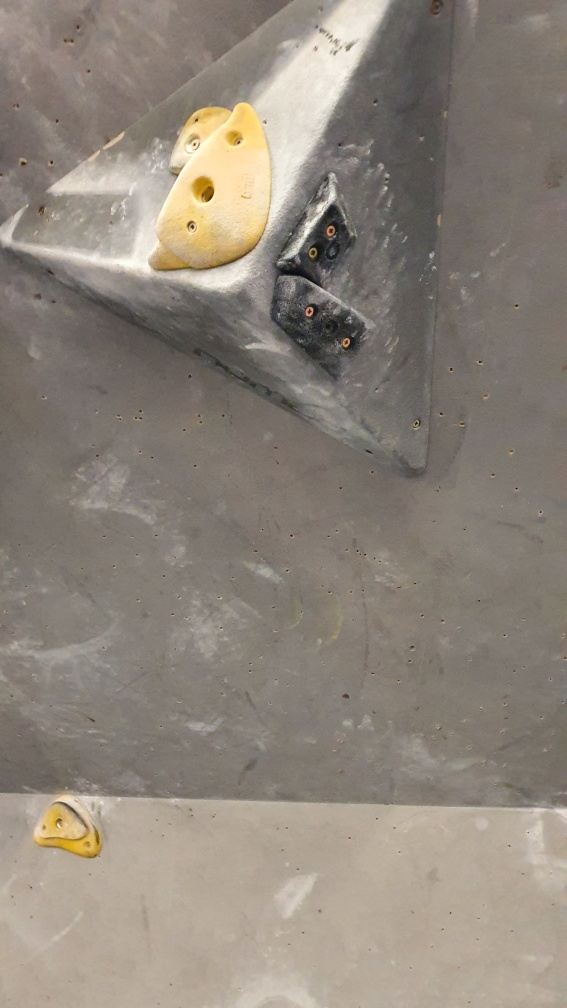Crimp: (268, 269, 376, 380)
